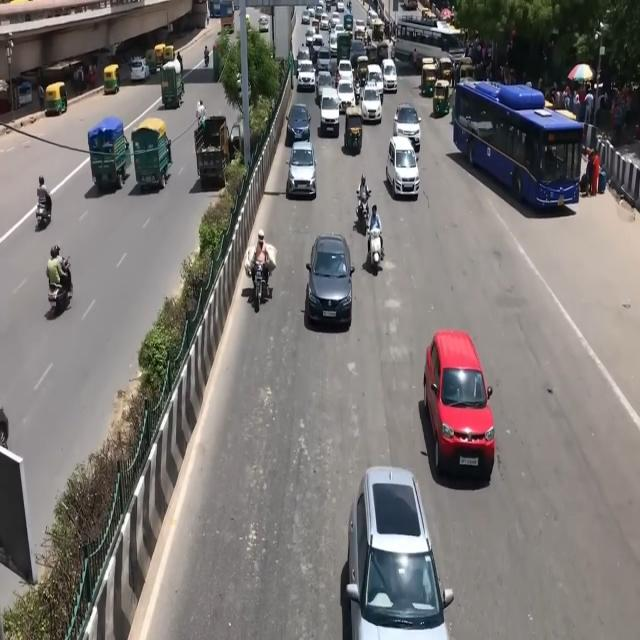auto: (344, 105, 364, 154), (45, 82, 68, 116), (433, 78, 451, 117), (421, 57, 438, 98), (104, 63, 120, 95), (438, 56, 453, 90), (456, 56, 473, 84), (145, 49, 160, 74), (154, 44, 166, 70)
bike-auto: (251, 228, 274, 295), (46, 244, 68, 302), (367, 222, 384, 272), (357, 173, 372, 222), (35, 189, 52, 228), (196, 99, 207, 130), (37, 84, 44, 112), (176, 50, 183, 74), (204, 45, 209, 67)
